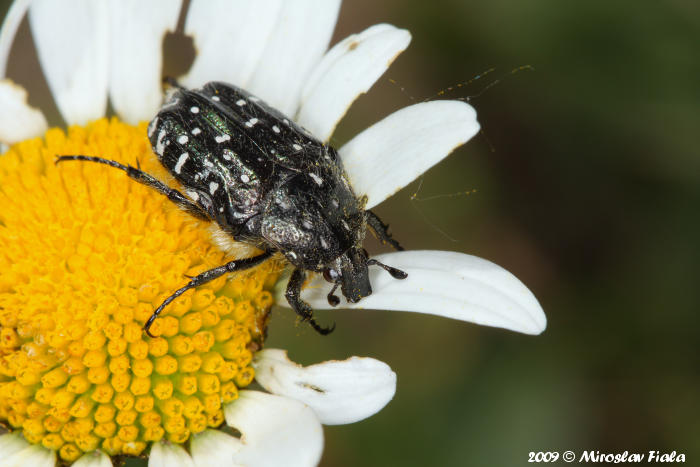Oxythyrea_funesta: (45, 73, 414, 347)
